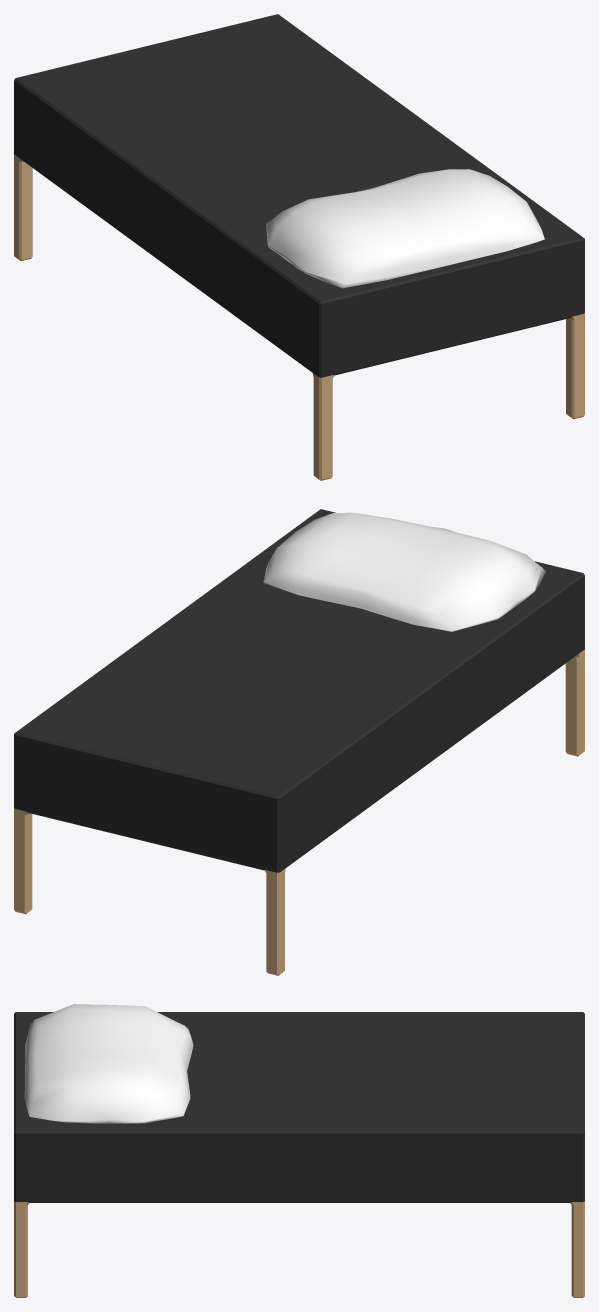
File: Bed.fbx
The picture shows the model from 3 angles, top to bottom: view 1: azimuth 30°, elevation 25°; view 2: azimuth 150°, elevation 25°; view 3: azimuth 270°, elevation 25°; orthographic projection. The views are drawn at different scales.
Parts seen in each view (by area): view 1: Bed, Pillow; view 2: Bed, Pillow; view 3: Bed, Pillow.
Part boxes in pixels (bbox=[...]): Bed: bbox=[14, 14, 584, 480]; Pillow: bbox=[266, 169, 544, 288]; Bed: bbox=[14, 509, 584, 975]; Pillow: bbox=[263, 512, 545, 631]; Bed: bbox=[14, 1012, 584, 1297]; Pillow: bbox=[24, 1004, 193, 1123].
Bounding box in the file's own units: 200 × 153 × 400.
